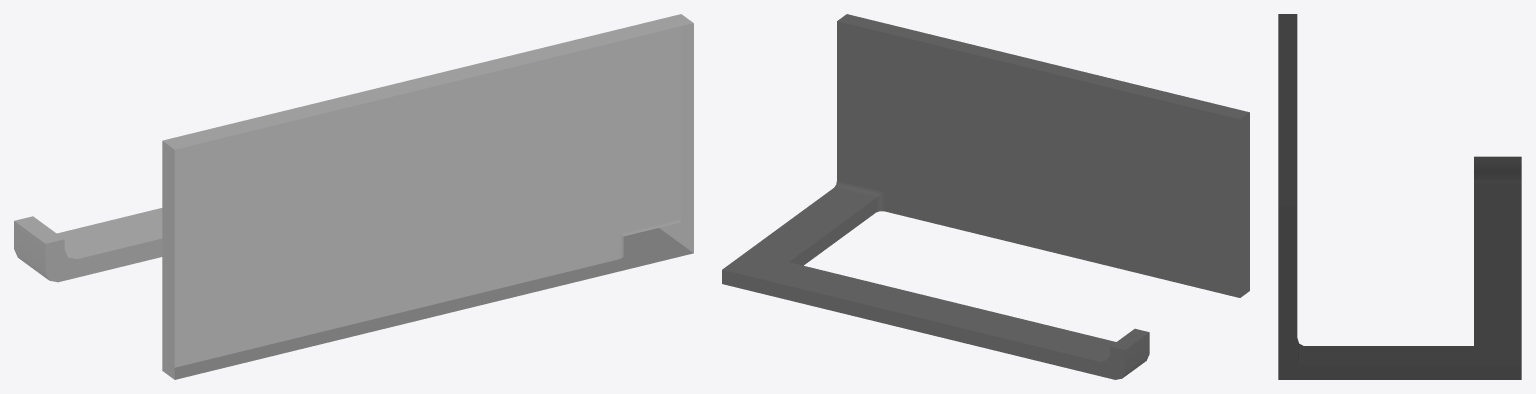
Rendered from ToiletPaperHanger_03380131.obj.
The picture shows the model from 3 angles, left to right: view 1: azimuth 30°, elevation 25°; view 2: azimuth 150°, elevation 25°; view 3: azimuth 270°, elevation 25°; orthographic projection. The views are drawn at different scales.
Visible parts, largest first — view 1: toilet_paper_hanger_9_b1474163; view 2: toilet_paper_hanger_9_b1474163; view 3: toilet_paper_hanger_9_b1474163.
Part boxes in pixels (<box>): toilet_paper_hanger_9_b1474163: <box>14,14,693,379</box>; toilet_paper_hanger_9_b1474163: <box>722,14,1249,379</box>; toilet_paper_hanger_9_b1474163: <box>1278,14,1521,379</box>.
Size of the model in its own units: 0.2037 by 0.0863 by 0.1092.
